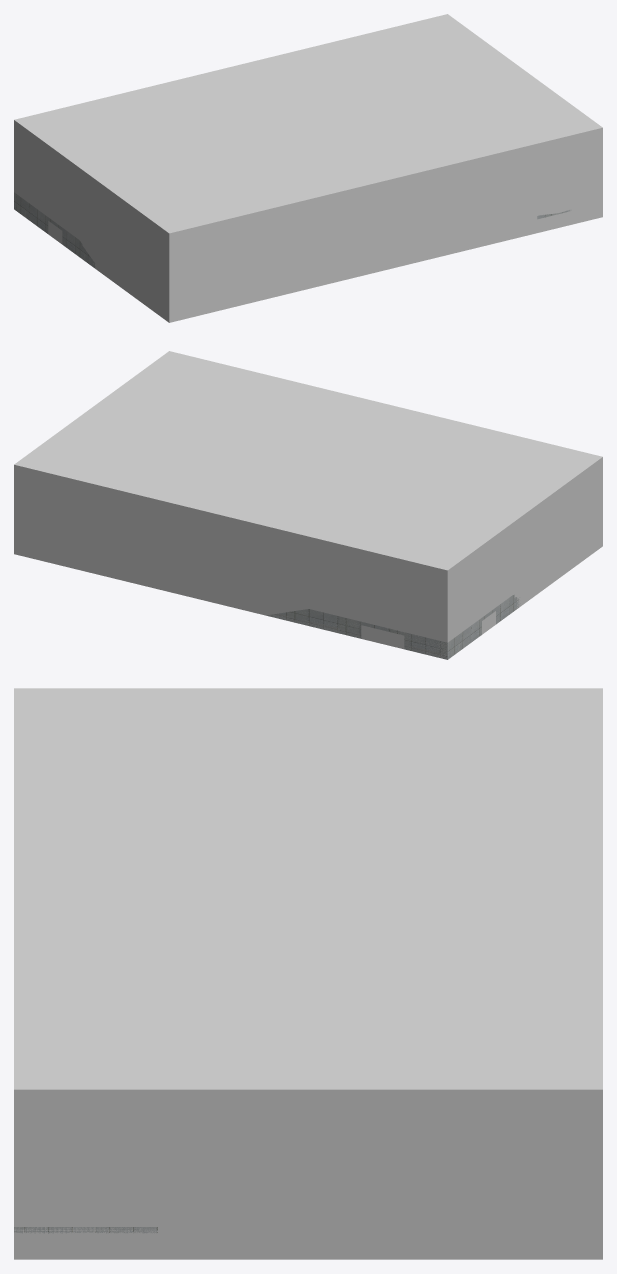
File: Estructuras.FBX
3 views of the same model, one above another, from view 1: azimuth 30°, elevation 25°; view 2: azimuth 150°, elevation 25°; view 3: azimuth 270°, elevation 25° (orthographic). The views are drawn at different scales.
Parts seen in each view (by area): view 1: Box001, Estructura3; view 2: Box001, Estructura3; view 3: Box001, Box002.
Part boxes in pixels (x1,y1,x2,y2): Box001: (14, 14, 602, 322); Estructura3: (14, 192, 95, 268); Box001: (14, 351, 602, 658); Estructura3: (266, 594, 520, 659); Box001: (14, 688, 602, 1259); Box002: (14, 1227, 157, 1233).
Bounding box in the file's own units: 5191 × 1023 × 3219.
Materials: 3 (2 with a texture image).
